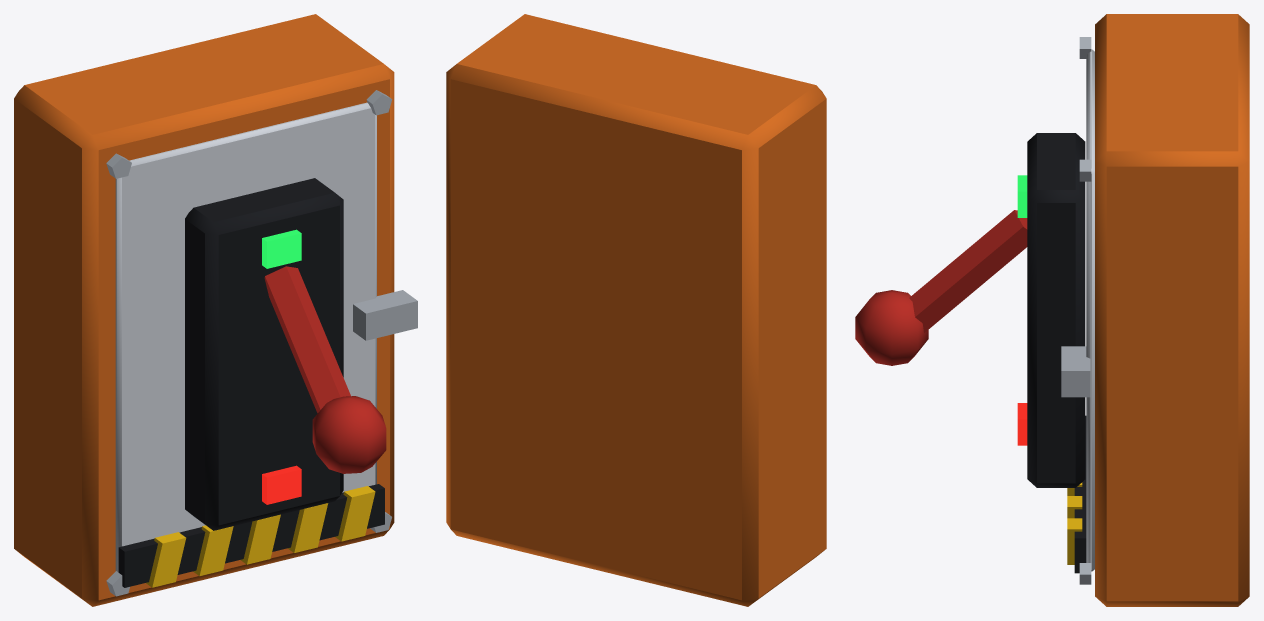
File: junction_disconnect_switch.glb
The picture shows the model from 3 angles, left to right: view 1: azimuth 30°, elevation 25°; view 2: azimuth 150°, elevation 25°; view 3: azimuth 270°, elevation 25°; orthographic projection. The views are drawn at different scales.
Visible parts, largest first — view 1: junction_disconnect_switch; view 2: junction_disconnect_switch; view 3: junction_disconnect_switch.
Part boxes in pixels (box(x1,y1,x2,y2)): junction_disconnect_switch: box(14, 14, 417, 606); junction_disconnect_switch: box(446, 14, 826, 606); junction_disconnect_switch: box(855, 14, 1249, 606).
Bounding box in the file's own units: 0.36 × 0.52 × 0.408.
